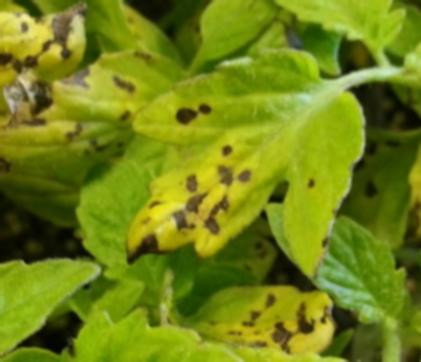Tomato leaf: (239, 0, 421, 47)
Tomato leaf bacterial spot: (122, 46, 384, 274), (163, 278, 354, 359)
